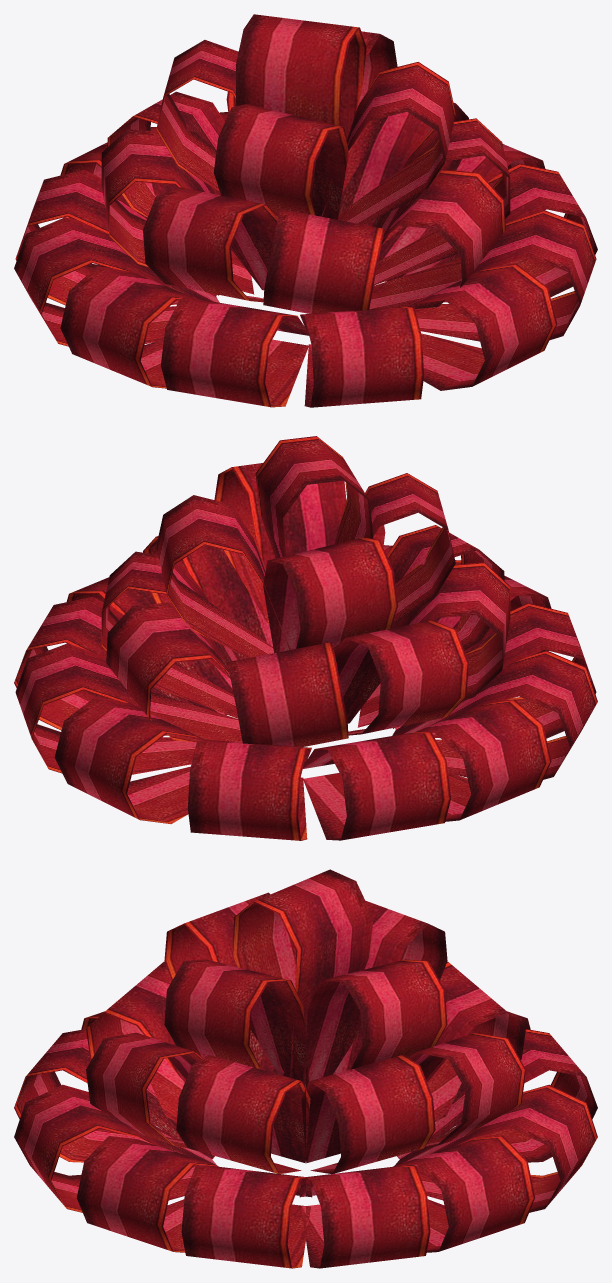
3 views of the same model, one above another, from view 1: azimuth 30°, elevation 25°; view 2: azimuth 150°, elevation 25°; view 3: azimuth 270°, elevation 25° (orthographic).
Visible parts, largest first — view 1: smMAT0110028; view 2: smMAT0110028; view 3: smMAT0110028.
Boxes of the visible parts, <box> form: smMAT0110028: <box>14,14,597,407</box>; smMAT0110028: <box>14,436,597,840</box>; smMAT0110028: <box>14,869,597,1268</box>.
Size of the model in its own units: 31.93 by 16.77 by 32.23.
Materials: 1 (1 with a texture image).
